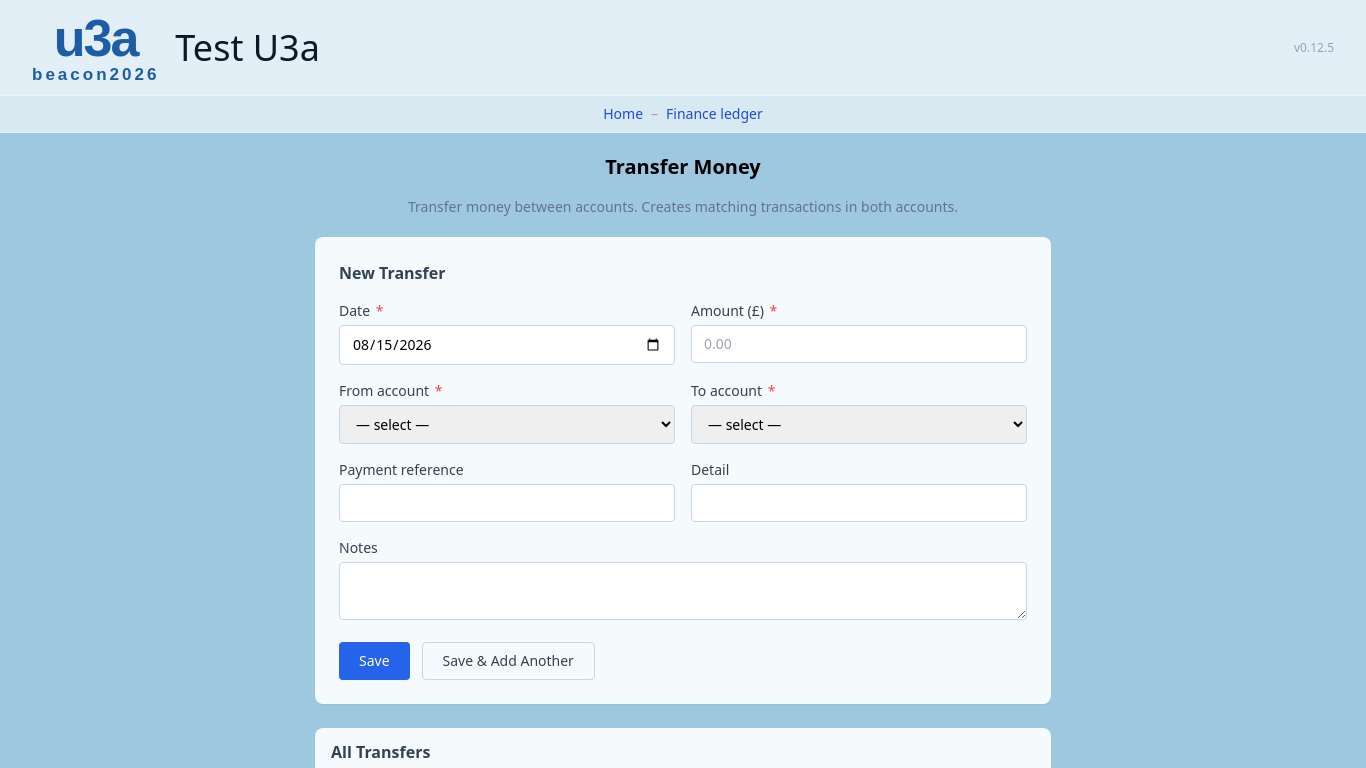
Test: TransferMoney page › rejects a transfer between the same account
The width and height of the screenshot is (1366, 768).
Type "50" into the number field labelled "Amount (£) *".
click(859, 344); type("50")  # box 691,325 -> 1027,363
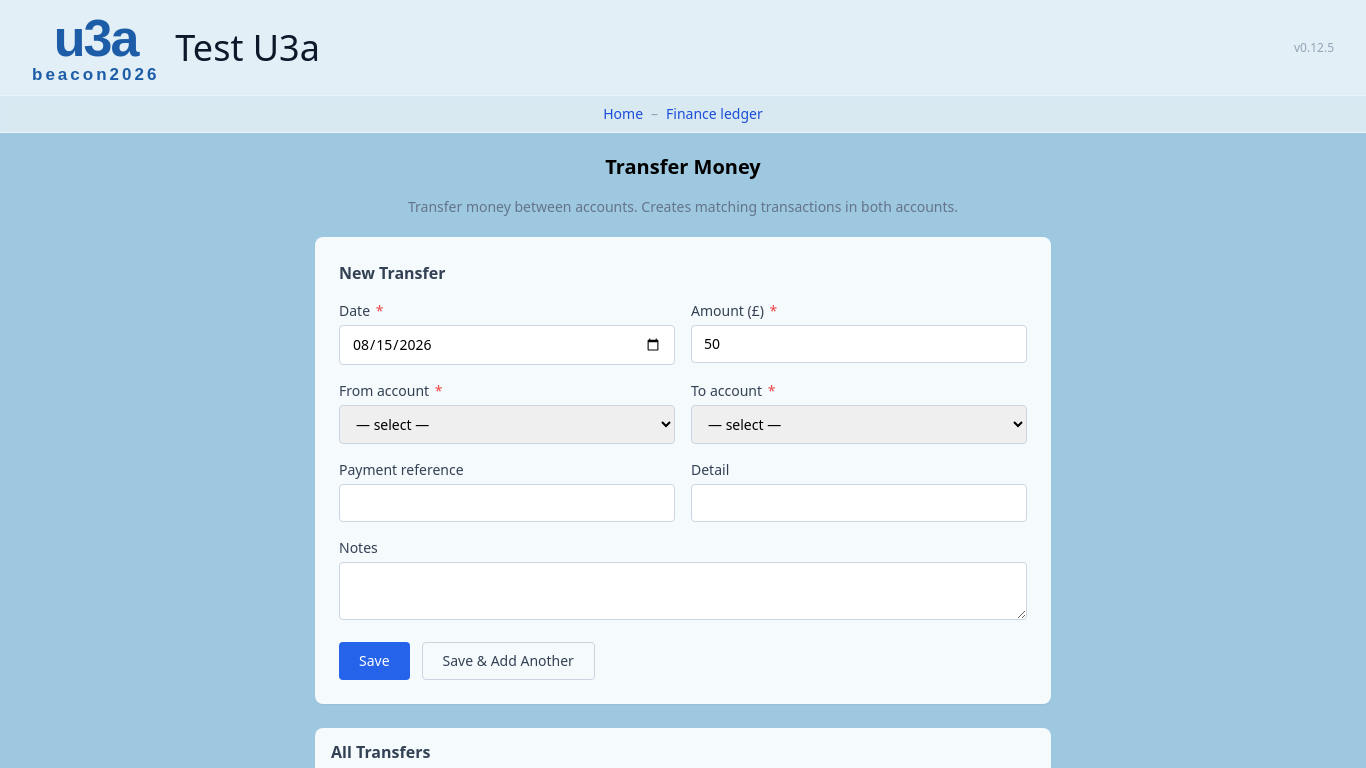
Select "Current" in the dropdown labelled "From account *" at (507, 424), box 339,405 -> 675,444
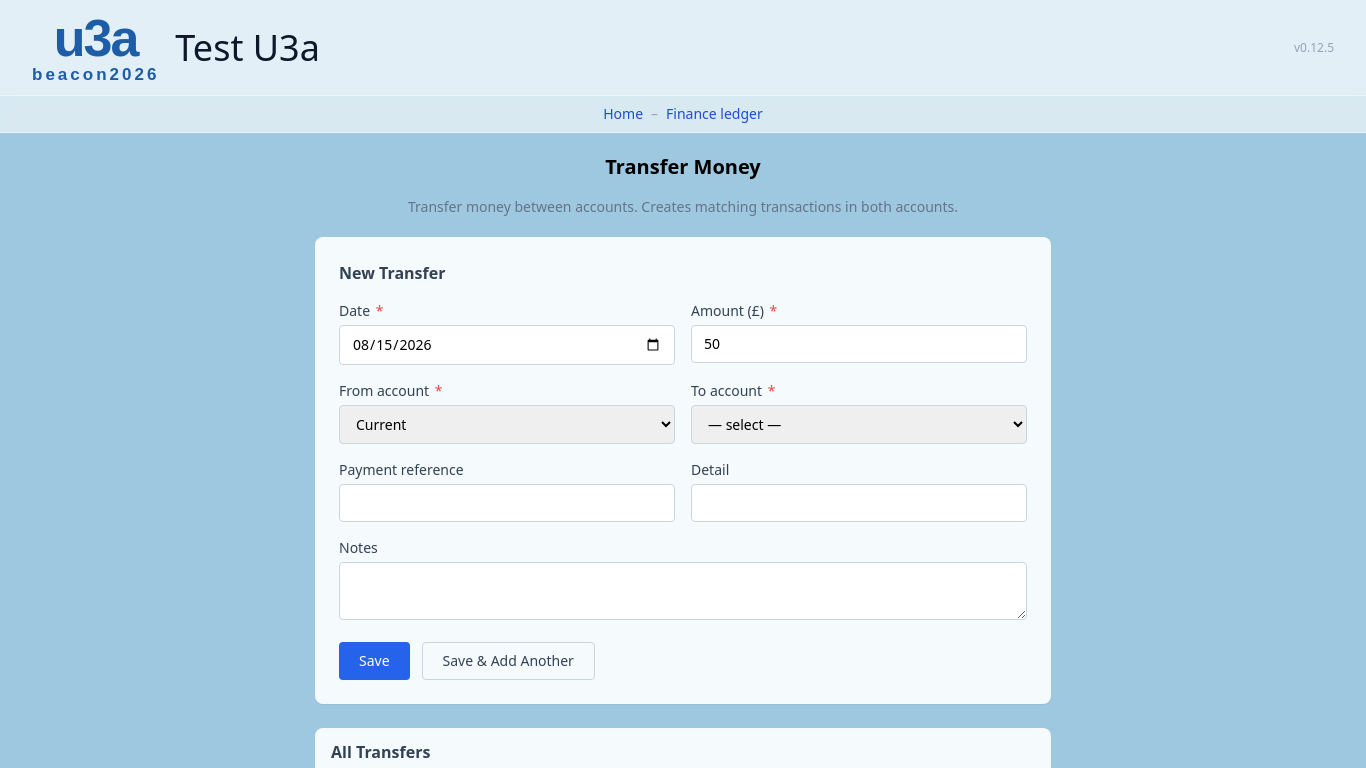
Select "Current" in the dropdown labelled "To account *" at (859, 424), box 691,405 -> 1027,444
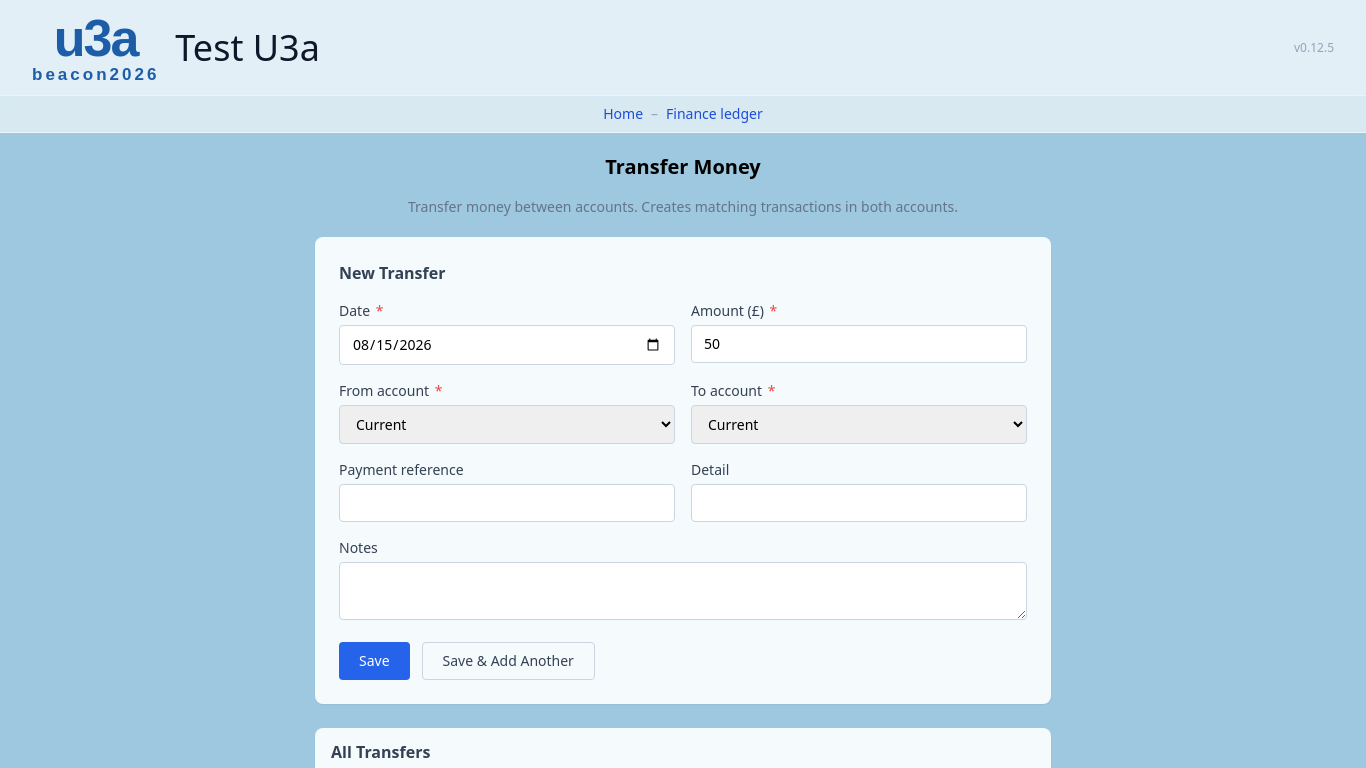
Click the button "Save".
click(374, 661)  # box 339,642 -> 410,680
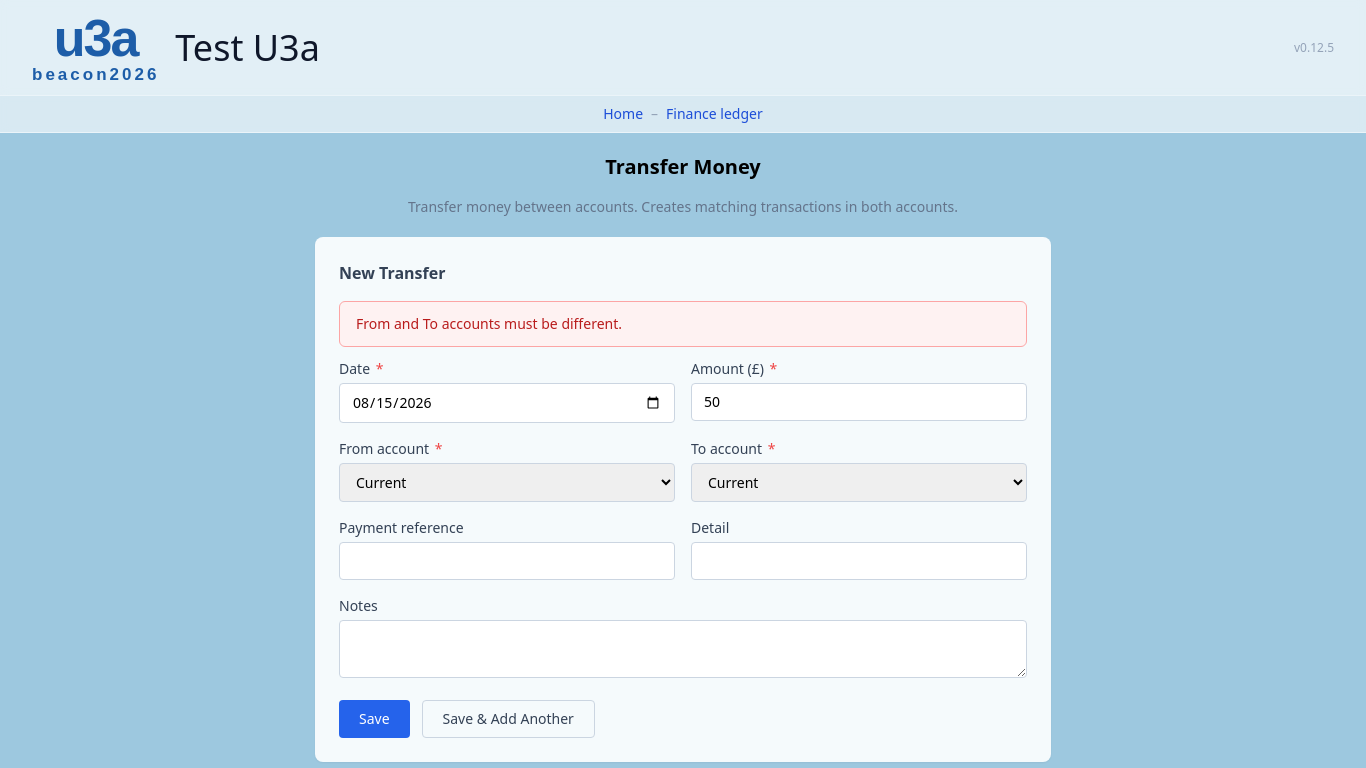
Expected: the text "From and To accounts must be different." is shown, 339,301 -> 1027,347
